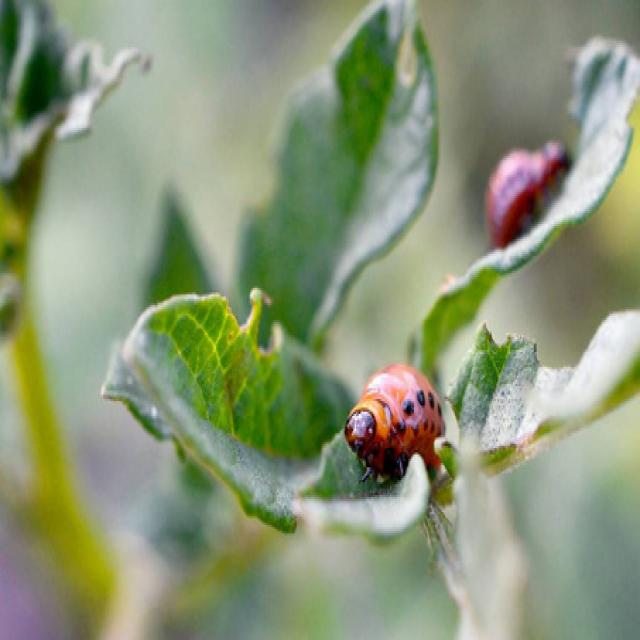ShuCaiHuaBanChong-Larva-: (340, 356, 454, 496)
